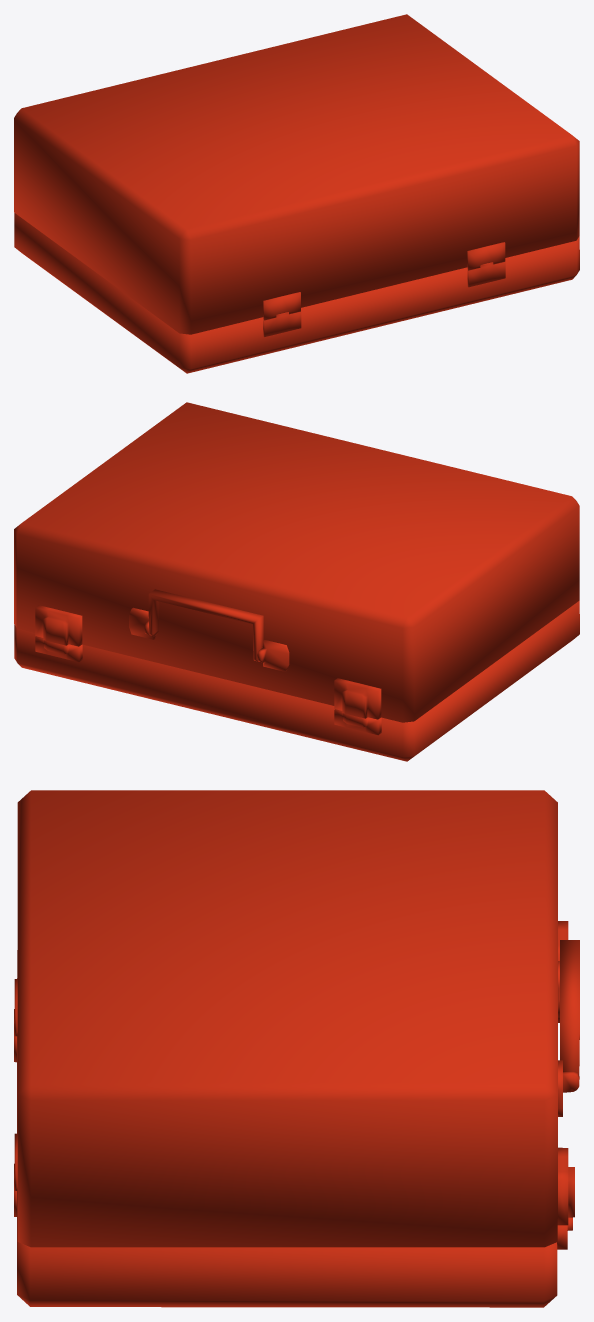
Rendered from Medical_Chest_B.fbx.
3 views of the same model, one above another, from view 1: azimuth 30°, elevation 25°; view 2: azimuth 150°, elevation 25°; view 3: azimuth 270°, elevation 25° (orthographic). The views are drawn at different scales.
Parts seen in each view (by area): view 1: Medical_Chest; view 2: Medical_Chest; view 3: Medical_Chest.
Part boxes in pixels (x1,y1,x2,y2): Medical_Chest: [14, 14, 579, 373]; Medical_Chest: [14, 402, 579, 761]; Medical_Chest: [14, 790, 579, 1307].
Bounding box in the file's own units: 1.55 × 0.534 × 1.22.
